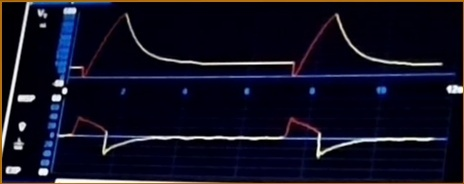Flow: (62, 111, 430, 176)
Leakage Volume: (74, 12, 446, 85)
